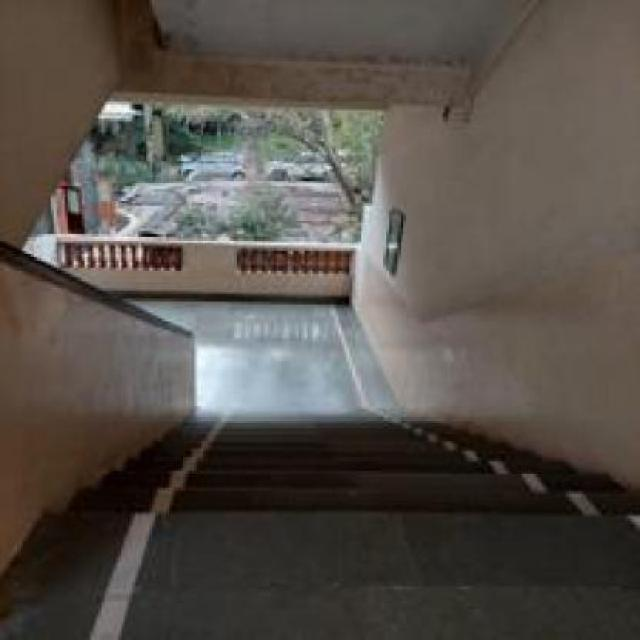stair: (146, 392, 522, 552)
